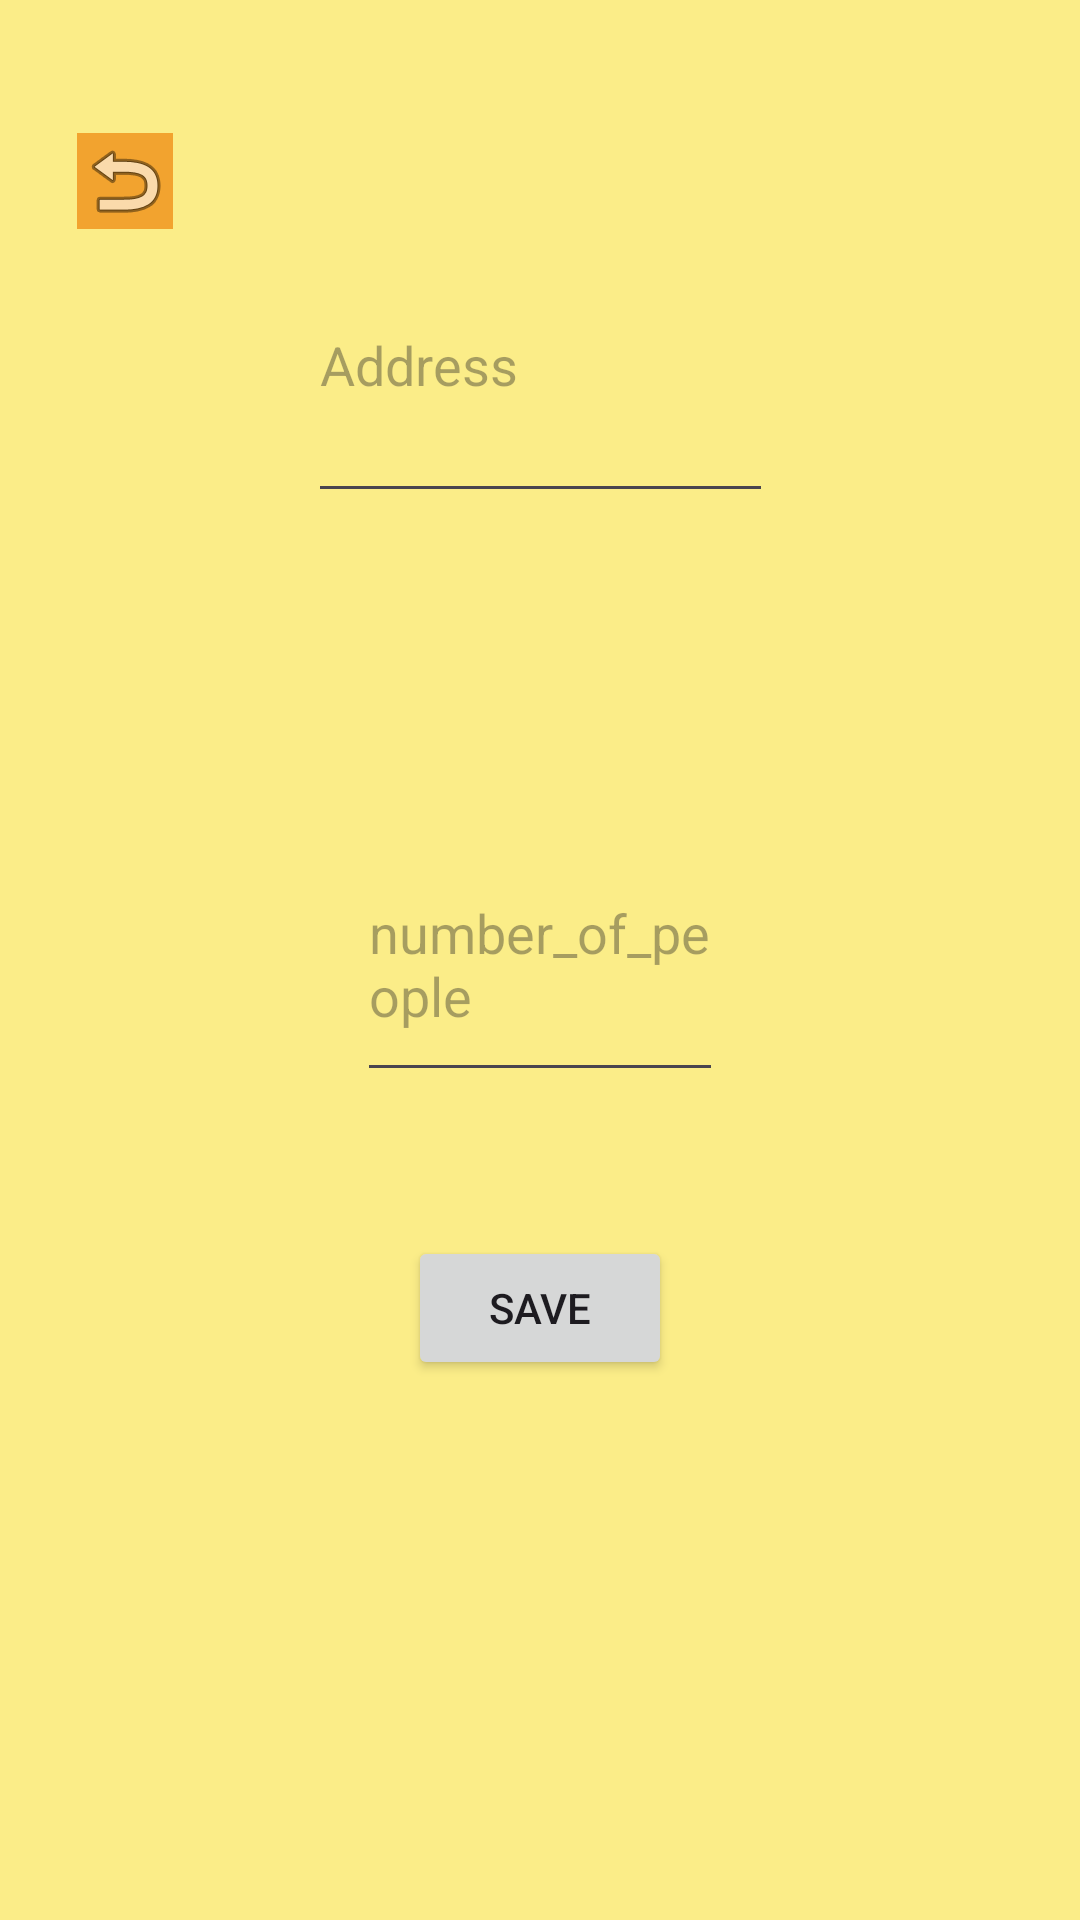

Screen size 1080 x 1920. Icon name, then its center in pixels as (x,y):
revert: (125,181)
